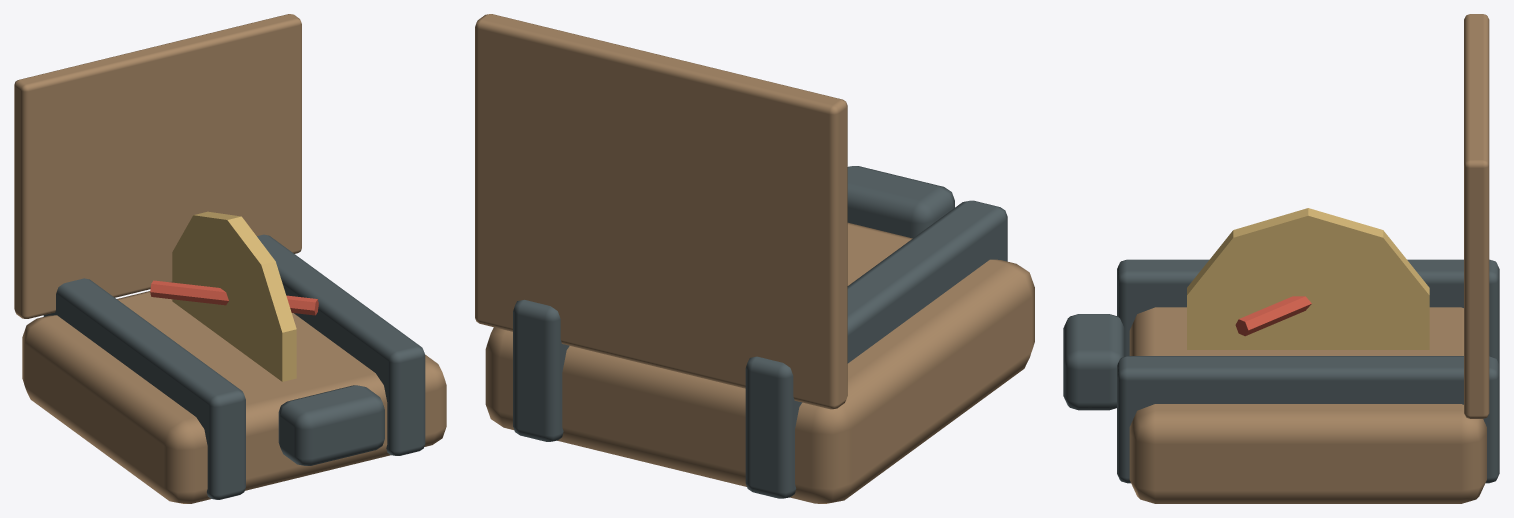
The model's file is magnetic-compass.glb.
The picture shows the model from 3 angles, left to right: view 1: azimuth 30°, elevation 25°; view 2: azimuth 150°, elevation 25°; view 3: azimuth 270°, elevation 25°; orthographic projection. The views are drawn at different scales.
Parts seen in each view (by area): view 1: magnetic-compass-box-wood, magnetic-compass-box-iron, magnetic-compass-box-brass, magnetic-compass-box-red; view 2: magnetic-compass-box-wood, magnetic-compass-box-iron; view 3: magnetic-compass-box-wood, magnetic-compass-box-iron, magnetic-compass-box-brass, magnetic-compass-box-red.
Part boxes in pixels (box(x1,y1,x2,y2)): magnetic-compass-box-wood: box(14, 14, 446, 503); magnetic-compass-box-iron: box(43, 234, 425, 499); magnetic-compass-box-brass: box(172, 211, 296, 381); magnetic-compass-box-red: box(150, 280, 318, 315); magnetic-compass-box-wood: box(475, 14, 1034, 503); magnetic-compass-box-iron: box(513, 166, 1007, 498); magnetic-compass-box-wood: box(1129, 14, 1489, 503); magnetic-compass-box-iron: box(1063, 259, 1499, 483); magnetic-compass-box-brass: box(1187, 208, 1429, 349); magnetic-compass-box-red: box(1235, 296, 1311, 336).
Size of the model in its own units: 0.35 by 0.385 by 0.4275.
